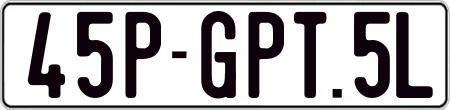4: (25, 10, 63, 97)
5: (76, 12, 114, 103), (354, 10, 392, 99)
G: (199, 9, 240, 99)
L: (396, 10, 434, 99)
P: (124, 9, 165, 100), (247, 11, 283, 100)
T: (293, 12, 329, 102)
